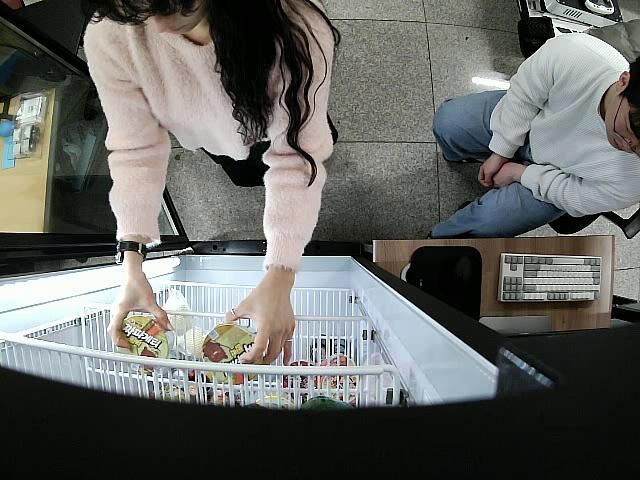00_hand: (223, 285, 295, 366), (106, 269, 175, 349)
04_chapagetti_S: (203, 323, 266, 385), (117, 315, 171, 373)
